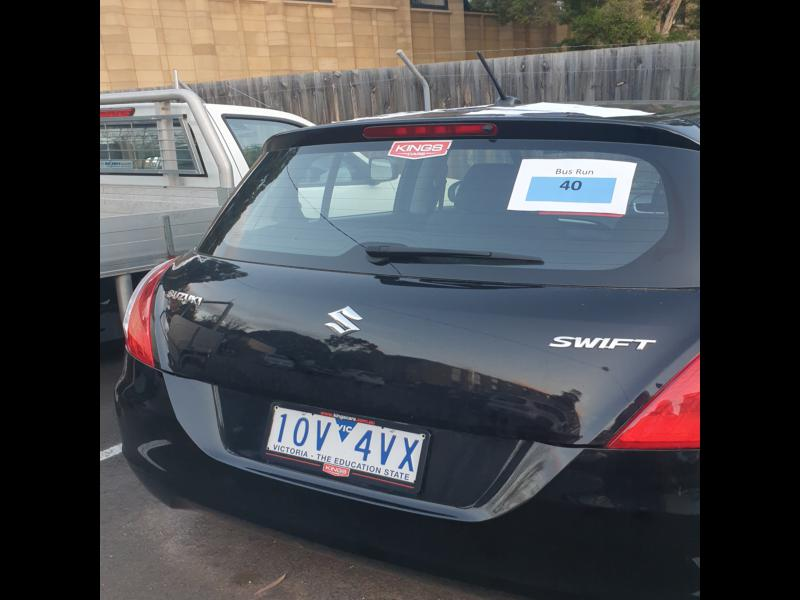BusRun: (529, 175, 617, 202)
PlateNo: (269, 407, 418, 483)
